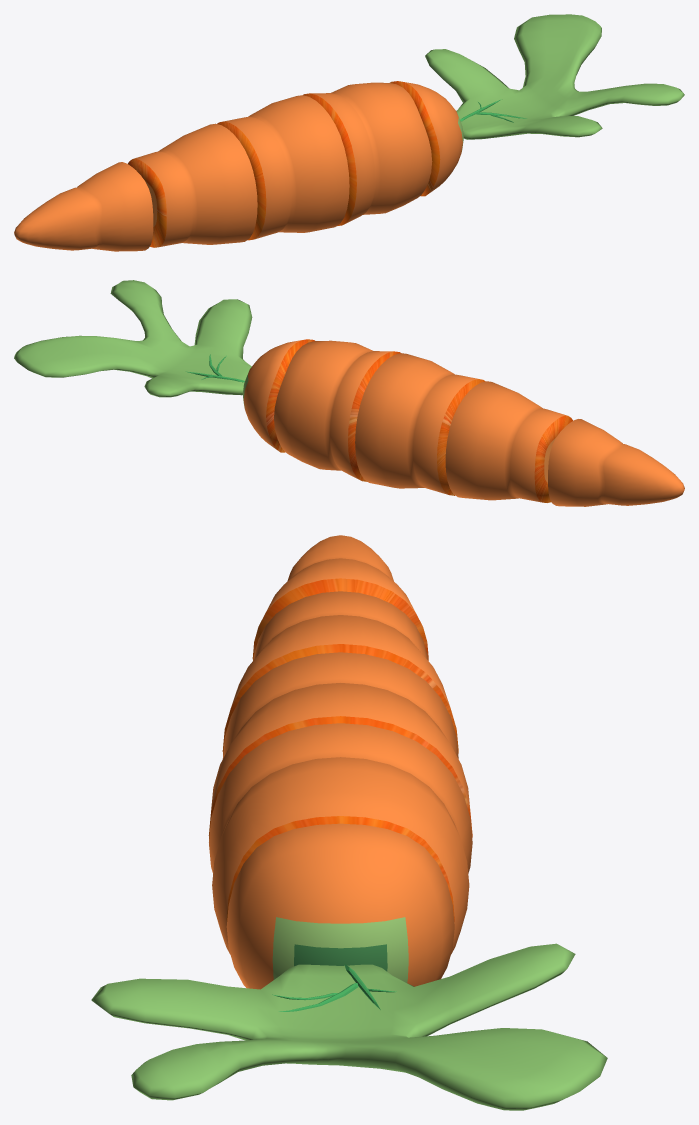
File: potongan 4.fbx
3 views of the same model, one above another, from view 1: azimuth 30°, elevation 25°; view 2: azimuth 150°, elevation 25°; view 3: azimuth 270°, elevation 25° (orthographic). The views are drawn at different scales.
Visible parts, largest first — view 1: Plane.023, wortel .004, potongan 2.002, wortel .006, potongan.003, wortel .005; view 2: Plane.023, wortel .004, potongan 2.002, wortel .006, potongan.003, wortel .005; view 3: Plane.023, wortel .005, wortel .006, wortel .004, potongan 2.002, potongan.003.
Boxes of the visible parts, <box> form: Plane.023: <box>425,14,684,139</box>; wortel .004: <box>217,95,349,240</box>; potongan 2.002: <box>128,123,257,247</box>; wortel .006: <box>303,82,432,225</box>; potongan.003: <box>14,162,153,251</box>; wortel .005: <box>390,81,463,196</box>; Plane.023: <box>14,280,252,397</box>; wortel .004: <box>355,353,485,495</box>; potongan 2.002: <box>445,381,572,502</box>; wortel .006: <box>274,340,400,481</box>; potongan.003: <box>548,419,684,506</box>; wortel .005: <box>242,339,314,452</box>; Plane.023: <box>91,943,607,1110</box>; wortel .005: <box>226,823,454,989</box>; wortel .006: <box>209,723,472,954</box>; wortel .004: <box>208,652,472,838</box>; potongan 2.002: <box>222,591,458,754</box>; potongan.003: <box>252,535,428,660</box>.
Bounding box in the file's own units: 748 × 138 × 270.
8 materials, 1 textured.
